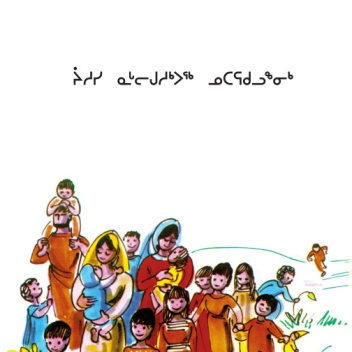inuktitut: (71, 62, 295, 88)
